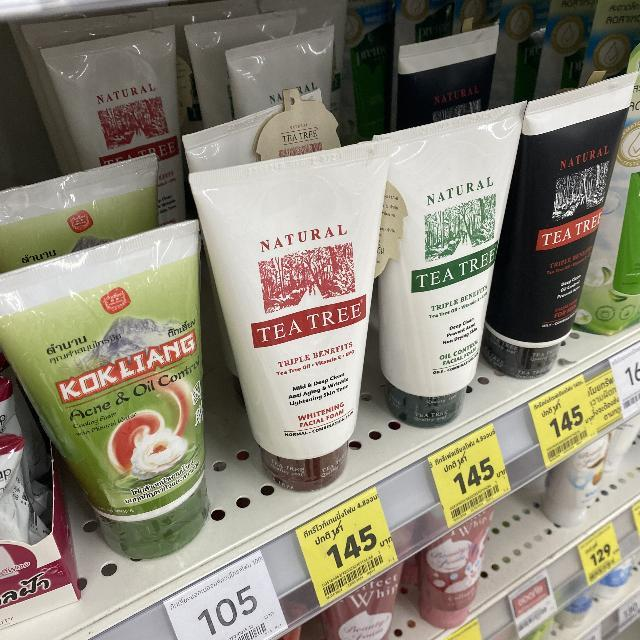Squeeze Tube: (3, 97, 640, 559)
